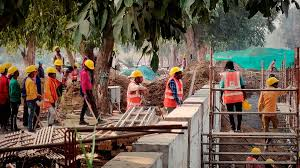arm: (238, 70, 248, 101), (217, 75, 226, 106), (171, 79, 182, 104), (49, 78, 59, 104), (78, 71, 88, 95), (31, 79, 41, 100), (256, 88, 264, 113)
face: (29, 69, 38, 77)
footwear: (2, 122, 10, 131), (78, 117, 88, 124), (228, 122, 236, 130), (27, 125, 36, 132), (235, 124, 243, 131)
helmet: (167, 63, 183, 75), (264, 74, 279, 86), (130, 67, 145, 79), (25, 62, 39, 74), (6, 63, 19, 75), (248, 145, 262, 156), (82, 57, 94, 68), (45, 64, 57, 74), (52, 57, 63, 66), (52, 45, 60, 50)
human: (218, 55, 249, 131), (75, 55, 99, 123), (256, 72, 283, 130), (21, 61, 43, 129), (41, 59, 64, 124), (161, 61, 188, 110), (123, 65, 150, 111), (1, 60, 12, 129), (242, 144, 265, 167)
leg: (87, 90, 103, 123), (234, 100, 245, 132), (77, 93, 88, 125), (26, 99, 37, 131), (10, 100, 21, 129), (226, 100, 236, 131), (1, 102, 11, 130), (45, 102, 55, 126), (259, 110, 269, 130), (269, 110, 278, 129)
nohelmet: (223, 58, 236, 70)
novest: (259, 86, 278, 112), (24, 75, 39, 100), (9, 77, 21, 101), (1, 74, 9, 103)
vest: (222, 69, 244, 102), (165, 76, 183, 104), (127, 80, 145, 104), (44, 75, 59, 103), (78, 68, 92, 92), (244, 157, 261, 166)
